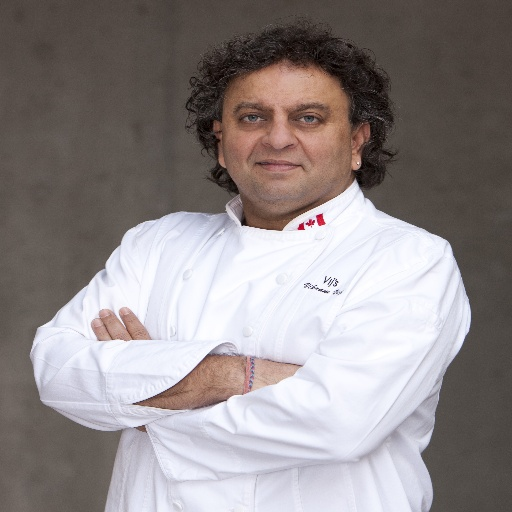hand: (88, 305, 156, 339), (252, 357, 303, 389)
